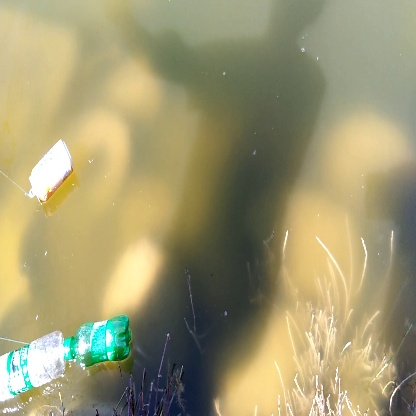bottle: (63, 317, 141, 370)
